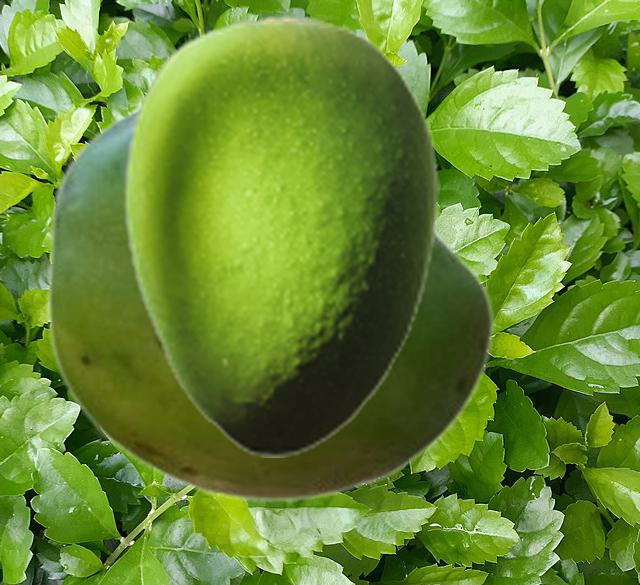green_mango: (45, 102, 494, 503), (122, 14, 439, 456)
